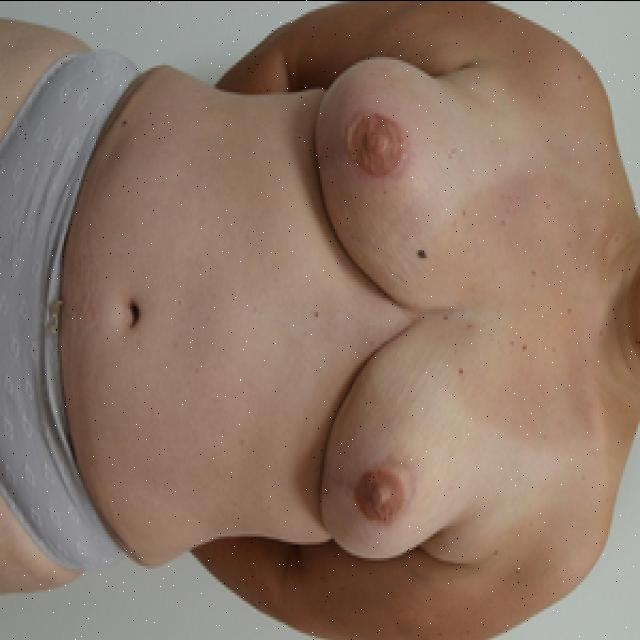Seno herido: (302, 46, 486, 312), (303, 317, 487, 568)
